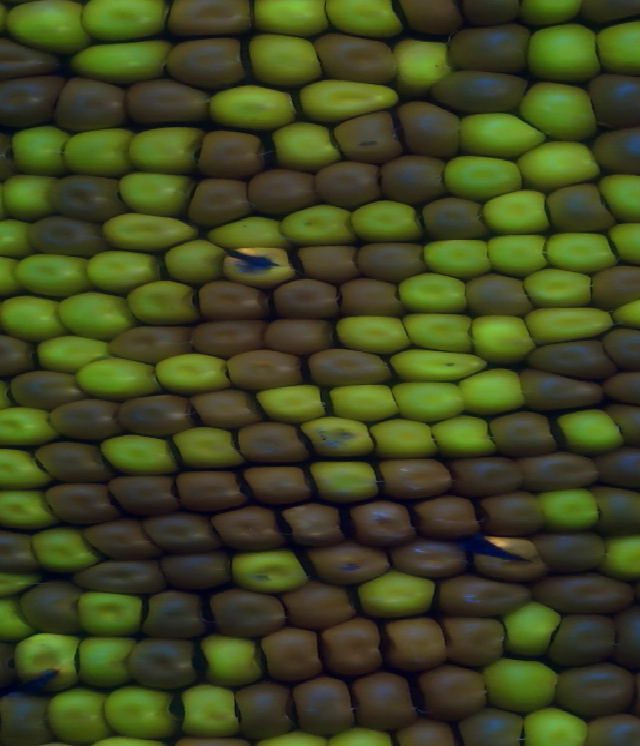fluorescent: (519, 78, 595, 143), (482, 657, 558, 714), (210, 84, 298, 132), (250, 30, 320, 90), (527, 23, 598, 82), (10, 2, 92, 52), (13, 632, 77, 696), (298, 81, 398, 120), (71, 42, 168, 82), (459, 114, 545, 159), (515, 141, 598, 186), (103, 214, 198, 253), (113, 171, 191, 218), (106, 692, 178, 742), (234, 548, 309, 596), (445, 152, 523, 198), (357, 571, 437, 615), (128, 122, 198, 172), (84, 2, 173, 41), (390, 348, 486, 384), (504, 601, 562, 660), (547, 233, 623, 278), (273, 120, 339, 171), (300, 416, 373, 462), (177, 685, 238, 739), (58, 292, 128, 339), (48, 691, 114, 740), (83, 251, 163, 291), (79, 357, 157, 398), (307, 457, 378, 502), (15, 254, 91, 296), (484, 190, 553, 236), (201, 635, 262, 687), (74, 593, 147, 636), (217, 244, 297, 283), (473, 316, 532, 368), (332, 381, 398, 427), (336, 313, 408, 355), (63, 130, 128, 176), (328, 1, 406, 39), (350, 201, 422, 242), (397, 272, 469, 312), (128, 281, 198, 322), (0, 293, 61, 340), (78, 637, 131, 691), (525, 265, 593, 307), (278, 206, 353, 244), (257, 384, 331, 422), (157, 355, 227, 395), (31, 527, 93, 572), (8, 126, 66, 174), (35, 335, 108, 373), (488, 231, 548, 277), (527, 306, 613, 338), (394, 41, 450, 90), (163, 237, 219, 286), (176, 427, 243, 467), (103, 435, 175, 472), (464, 367, 520, 414), (397, 381, 466, 419), (373, 414, 438, 454), (253, 3, 328, 37), (421, 237, 488, 275), (434, 414, 493, 457), (408, 312, 473, 351), (543, 487, 600, 531), (558, 412, 619, 452), (3, 174, 53, 221), (525, 706, 586, 744), (598, 21, 640, 74), (209, 217, 285, 246), (0, 487, 53, 527), (0, 407, 48, 448), (0, 448, 47, 486), (605, 532, 640, 582), (602, 176, 640, 220), (607, 222, 640, 266), (0, 599, 31, 638), (0, 222, 31, 257), (0, 569, 33, 599)
nonfluorescent: (431, 67, 525, 116), (536, 571, 635, 617), (169, 37, 251, 91), (123, 78, 211, 128), (437, 572, 530, 618), (519, 363, 604, 410), (208, 589, 284, 641), (556, 665, 633, 716), (318, 35, 398, 84), (448, 25, 528, 74), (529, 339, 618, 383), (352, 671, 418, 730), (128, 637, 195, 693), (246, 165, 318, 217), (548, 617, 620, 669), (399, 102, 463, 160), (116, 396, 198, 441), (58, 78, 124, 133), (382, 619, 448, 674), (303, 348, 393, 388), (51, 176, 125, 224), (295, 677, 354, 737), (320, 621, 383, 677), (176, 469, 249, 517), (381, 152, 448, 204), (77, 557, 163, 597), (417, 667, 483, 719), (226, 349, 303, 393), (104, 323, 192, 361), (471, 536, 542, 583), (313, 162, 385, 208), (108, 473, 180, 519), (142, 587, 208, 637), (447, 617, 507, 672), (259, 627, 320, 681), (48, 397, 121, 442), (168, 1, 259, 37), (413, 494, 480, 542), (548, 182, 612, 232), (333, 112, 397, 162), (211, 507, 282, 552), (23, 581, 83, 634), (488, 413, 557, 459), (0, 77, 61, 129), (311, 543, 390, 583), (525, 454, 605, 493), (198, 279, 270, 322), (85, 517, 152, 563), (281, 587, 358, 627), (47, 482, 122, 523), (383, 458, 454, 501), (193, 321, 269, 361), (197, 128, 259, 177), (37, 442, 107, 485), (238, 419, 303, 465), (591, 69, 640, 130), (392, 539, 468, 578), (146, 512, 218, 553), (28, 215, 103, 254), (478, 490, 543, 534), (468, 273, 528, 320), (238, 683, 292, 735), (245, 468, 317, 507), (270, 276, 338, 317), (284, 501, 343, 548), (353, 502, 413, 548), (456, 456, 525, 496), (338, 278, 402, 321), (0, 689, 50, 744), (192, 390, 260, 430), (422, 196, 486, 238), (538, 535, 603, 575), (592, 122, 640, 176), (356, 242, 420, 282), (160, 554, 229, 591), (0, 39, 58, 82), (187, 181, 245, 224), (263, 317, 332, 353), (12, 368, 76, 406), (461, 707, 522, 746), (298, 242, 355, 282), (588, 266, 640, 306), (594, 487, 640, 532), (602, 327, 640, 374), (598, 451, 640, 492), (0, 527, 35, 573), (0, 333, 31, 376), (608, 369, 640, 407), (400, 726, 449, 746)
